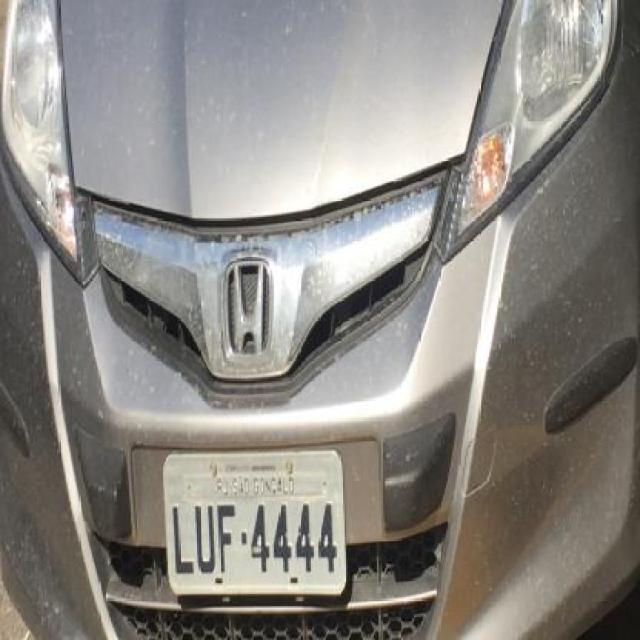old_plate: (157, 446, 358, 604)
